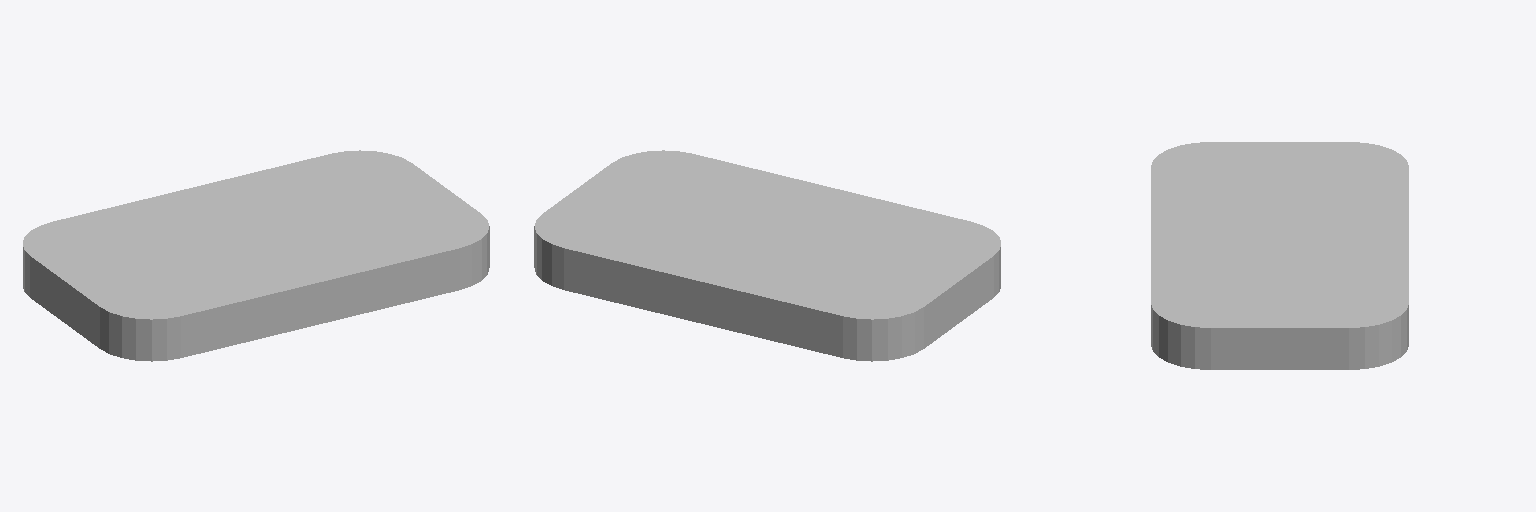
The model's file is original-79.obj.
3 views of the same model, side by side, from view 1: azimuth 30°, elevation 25°; view 2: azimuth 150°, elevation 25°; view 3: azimuth 270°, elevation 25° (orthographic).
Visible parts, largest first — view 1: mesh78/mesh78-geometry#mesh78-geometry; view 2: mesh78/mesh78-geometry#mesh78-geometry; view 3: mesh78/mesh78-geometry#mesh78-geometry.
Boxes of the visible parts, box(x1,y1,x2,y2) form: mesh78/mesh78-geometry#mesh78-geometry: box(23, 150, 489, 361); mesh78/mesh78-geometry#mesh78-geometry: box(534, 150, 1000, 361); mesh78/mesh78-geometry#mesh78-geometry: box(1151, 142, 1408, 369).
Size of the model in its own units: 0.0609 by 0.0064 by 0.0357.